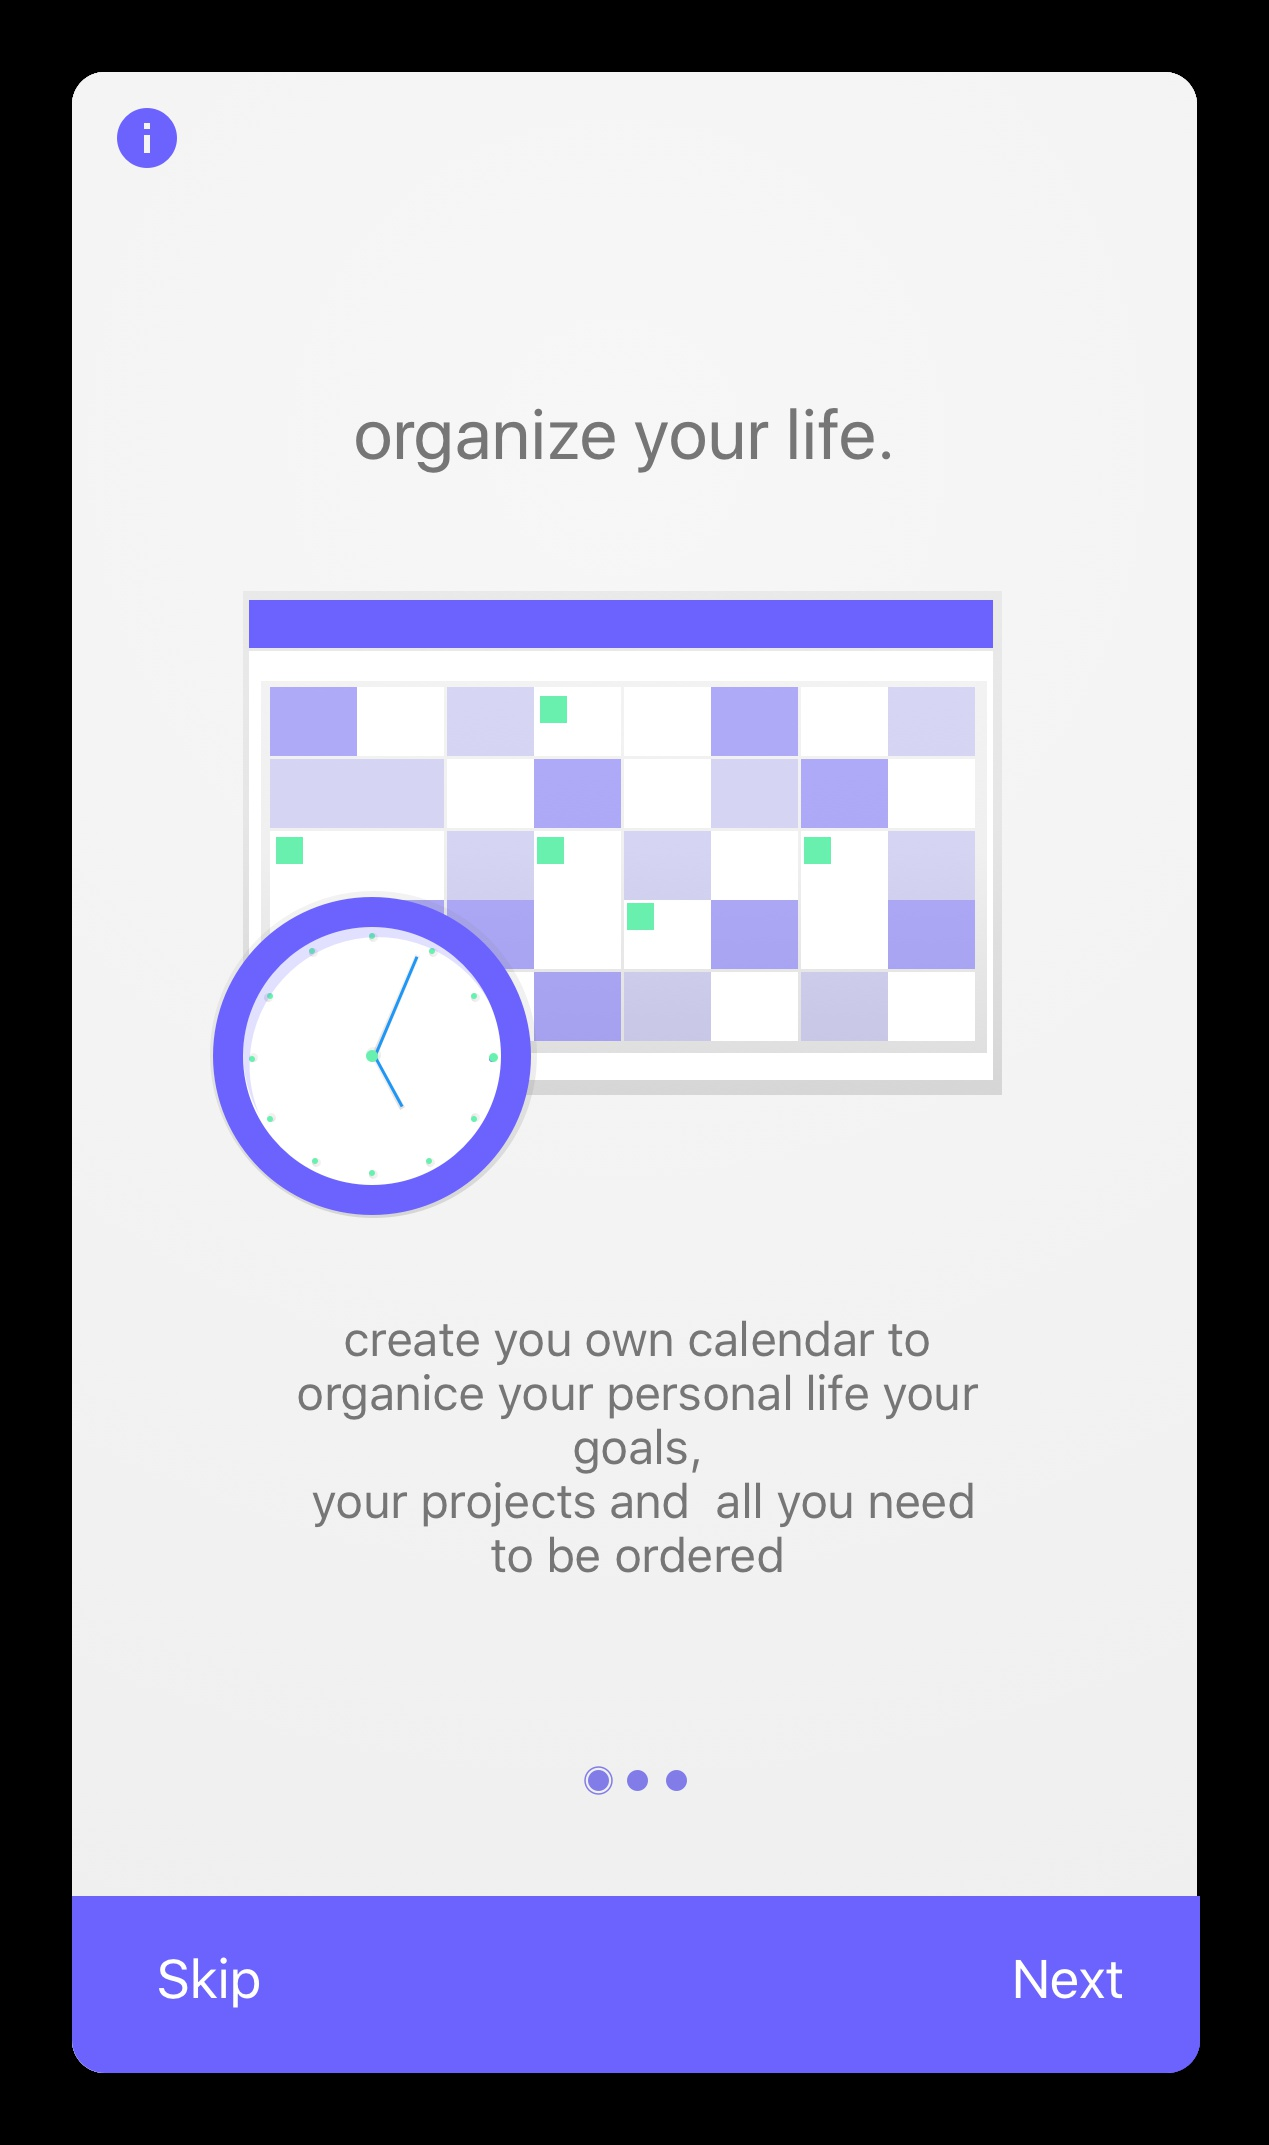Icon: (116, 107, 178, 169)
Image: (211, 589, 1005, 1218)
PageIndicator: (582, 1764, 690, 1798)
Text: (298, 1319, 980, 1576), (357, 406, 891, 474), (159, 1956, 261, 2011), (1014, 1959, 1124, 2000)
